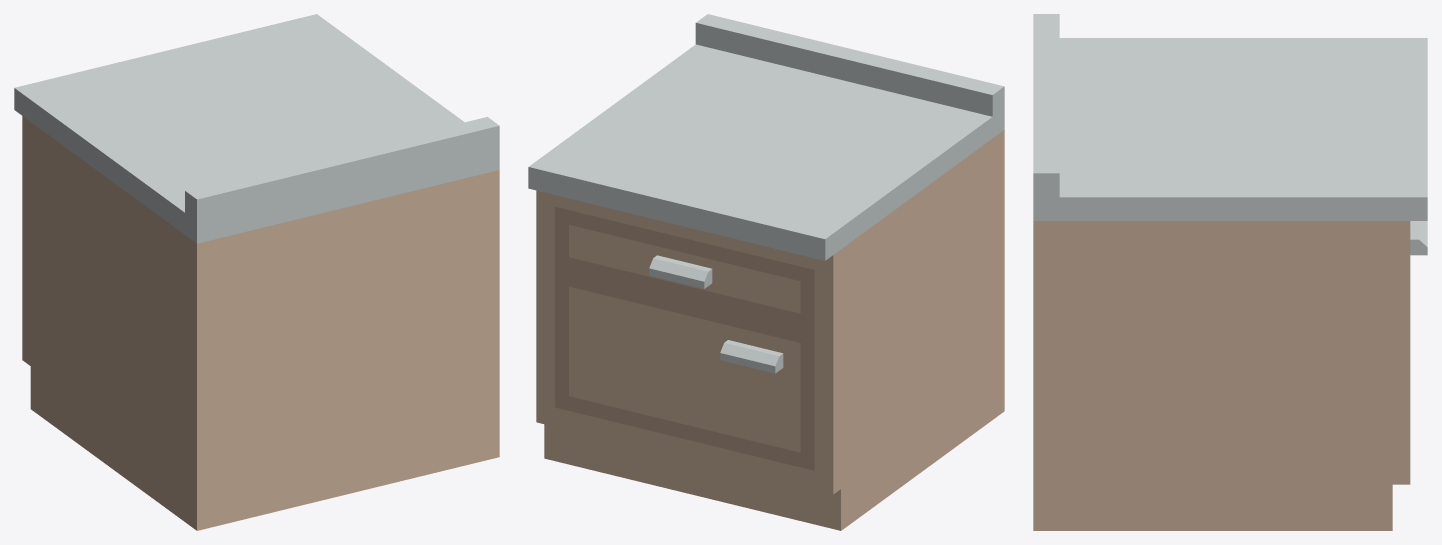
Rendered from kitchen_cabinet_drawer.glb.
3 views of the same model, side by side, from view 1: azimuth 30°, elevation 25°; view 2: azimuth 150°, elevation 25°; view 3: azimuth 270°, elevation 25° (orthographic). The views are drawn at different scales.
Parts seen in each view (by area): view 1: kitchenCabinetDrawer(Clone); view 2: kitchenCabinetDrawer(Clone), door, drawer; view 3: kitchenCabinetDrawer(Clone), door.
Part boxes in pixels (x1,y1,x2,y2): kitchenCabinetDrawer(Clone): (14, 14, 499, 530); kitchenCabinetDrawer(Clone): (528, 14, 1004, 530); door: (555, 268, 814, 470); drawer: (555, 206, 814, 331); kitchenCabinetDrawer(Clone): (1033, 14, 1427, 530); door: (1410, 221, 1427, 255).
Bounding box in the file's own units: 0.903 × 0.945 × 0.945.
